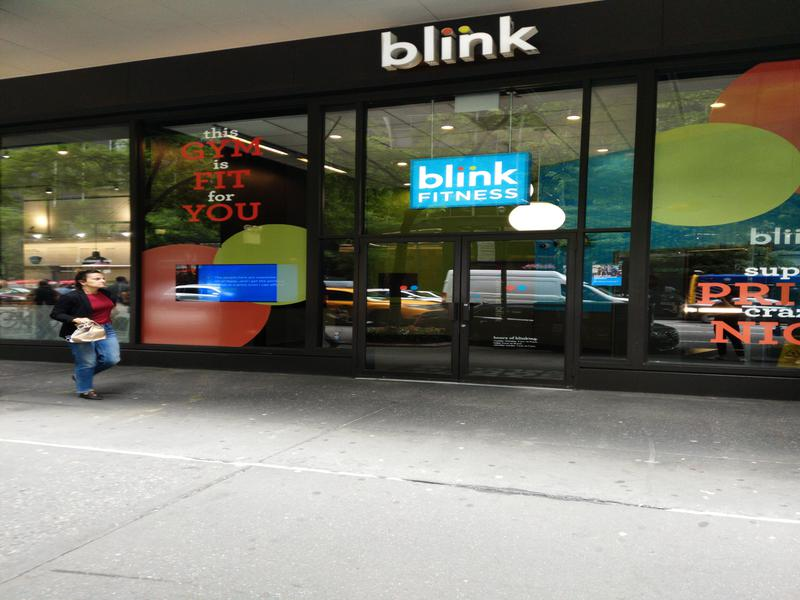double_door: (361, 232, 581, 388)
